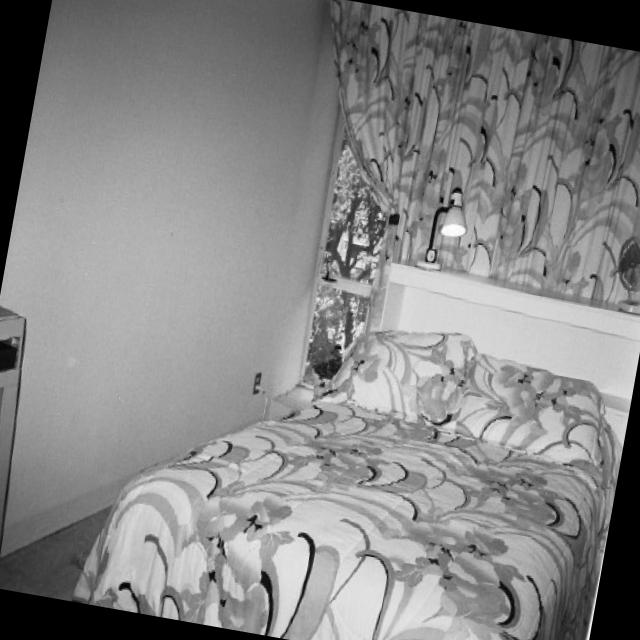2001: (304, 127, 385, 380)
bed -occluded-: (79, 257, 640, 640)
curtain crop: (326, 0, 640, 334)
shelves occluded: (0, 300, 25, 555)
